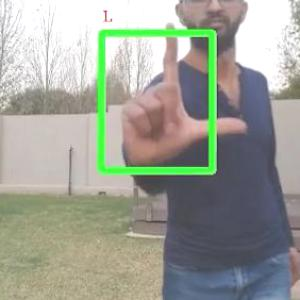land_hand: (115, 19, 245, 164)
